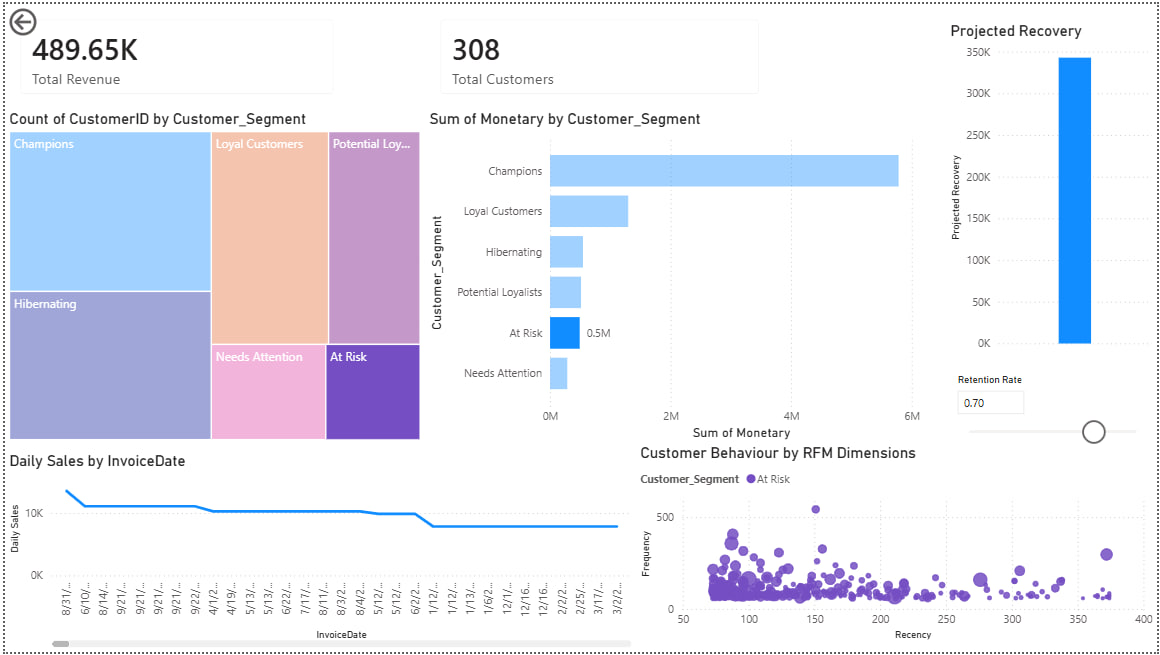

The dashboard page shown, as its layout file describes it:
{"tool":"powerbi","page":{"name":"Page 1","canvas":[1280,720],"ordinal":0},"visuals":[{"type":"treemap","fields":{"Group":["Fact_RFM.Customer_Segment"],"Values":["CountNonNull(Fact_RFM.CustomerID)"]},"box":[0,117.5,466.2,371.2],"z":0},{"type":"clusteredBarChart","fields":{"Category":["Fact_RFM.Customer_Segment"],"Y":["Sum(Fact_RFM.Monetary)"]},"box":[466.2,117.5,578.8,371.2],"z":1},{"type":"cardVisual","fields":{"Data":["Sum(Fact_RFM.Monetary)"]},"box":[0,0,466.2,117.5],"z":2},{"type":"cardVisual","fields":{"Data":["CountNonNull(Fact_RFM.CustomerID)"]},"box":[468.8,0,576.2,117.5],"z":3},{"type":"lineChart","fields":{"Y":["Sum(Fact_RFM.Monetary)"],"Category":["data.InvoiceDate"]},"box":[0,498.2,1170,221.8],"z":4},{"type":"slicer","fields":{"Values":["Retention Rate.Retention Rate"]},"box":[1045,498.8,235,102.5],"z":5},{"type":"actionButton","box":[0,0,100,40],"z":6},{"type":"clusteredColumnChart","fields":{"Y":["Fact_RFM.Projected Recovery"]},"box":[1045,117.5,235,371.2],"z":7}]}

Visuals, with their boxes in screenshot pixels (x1, y1, x2, y2), scaled from the page's 1280x720 canvas onto the 1160x655 screenshot:
treemap - Fact_RFM.Customer_Segment x CountNonNull(Fact_RFM.CustomerID): Rect(0, 107, 422, 445)
clusteredBarChart - Fact_RFM.Customer_Segment x Sum(Fact_RFM.Monetary): Rect(422, 107, 947, 445)
cardVisual - Sum(Fact_RFM.Monetary): Rect(0, 0, 422, 107)
cardVisual - CountNonNull(Fact_RFM.CustomerID): Rect(425, 0, 947, 107)
lineChart - Sum(Fact_RFM.Monetary) x data.InvoiceDate: Rect(0, 453, 1060, 654)
slicer - Retention Rate.Retention Rate: Rect(947, 454, 1159, 547)
actionButton: Rect(0, 0, 91, 36)
clusteredColumnChart - Fact_RFM.Projected Recovery: Rect(947, 107, 1159, 445)
